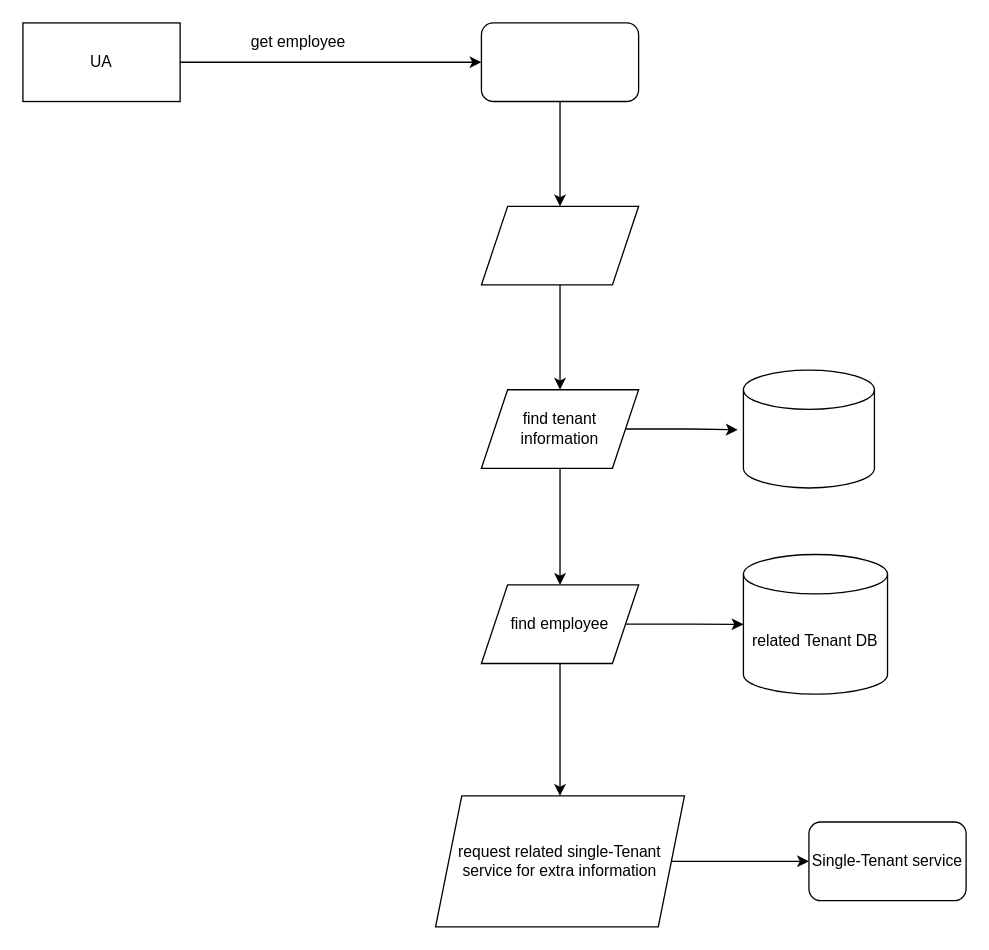
This 989x950 diagram has some shape labels left out. The centre of each missing label's shape, as x and y in pixels:
"master DB" belongs at [808,428].
"Multi-Tenant service" belongs at [559,62].
"Resolve related tenant" belongs at [559,245].
